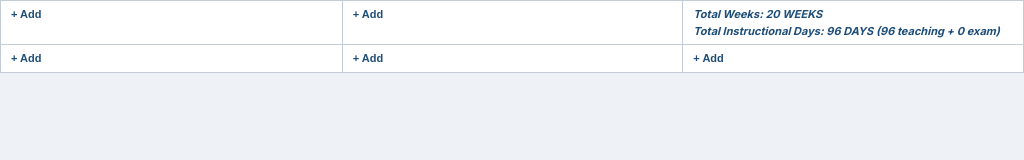
Scenario: InfoStrip › the two-category cell (Value Addition / Make-up) still shows a category dropdown
# First "+ Add" belongs to the Value Addition/Make-up cell (cellDefs[0]).
What coordinates should you click on to do the following:
click the 1st button "+ Add"
I would click on:
 (26, 14)
Its box is [11,6,42,22].
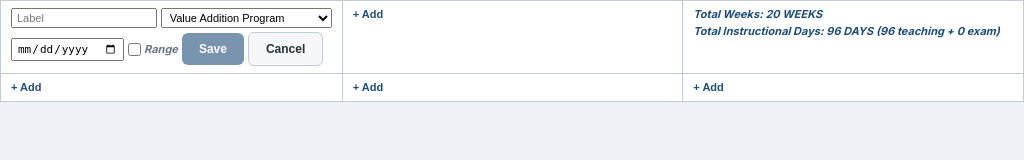
Check: the dropdown is shown, box [161,8,332,28]
